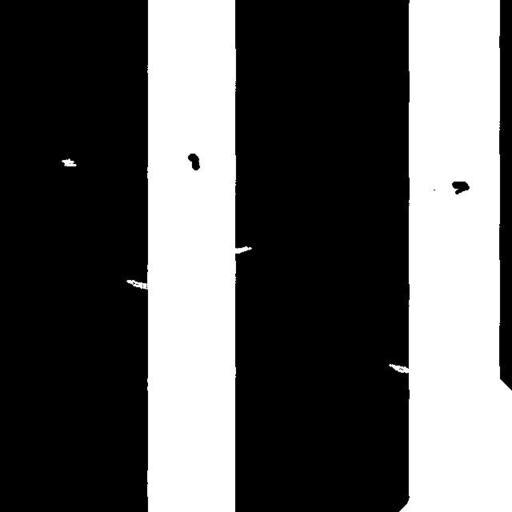copper: (444, 174, 477, 202), (180, 146, 207, 178)
mousebite: (381, 356, 422, 381), (118, 272, 158, 297), (224, 238, 259, 261)
pin-hole: (54, 150, 84, 174)
